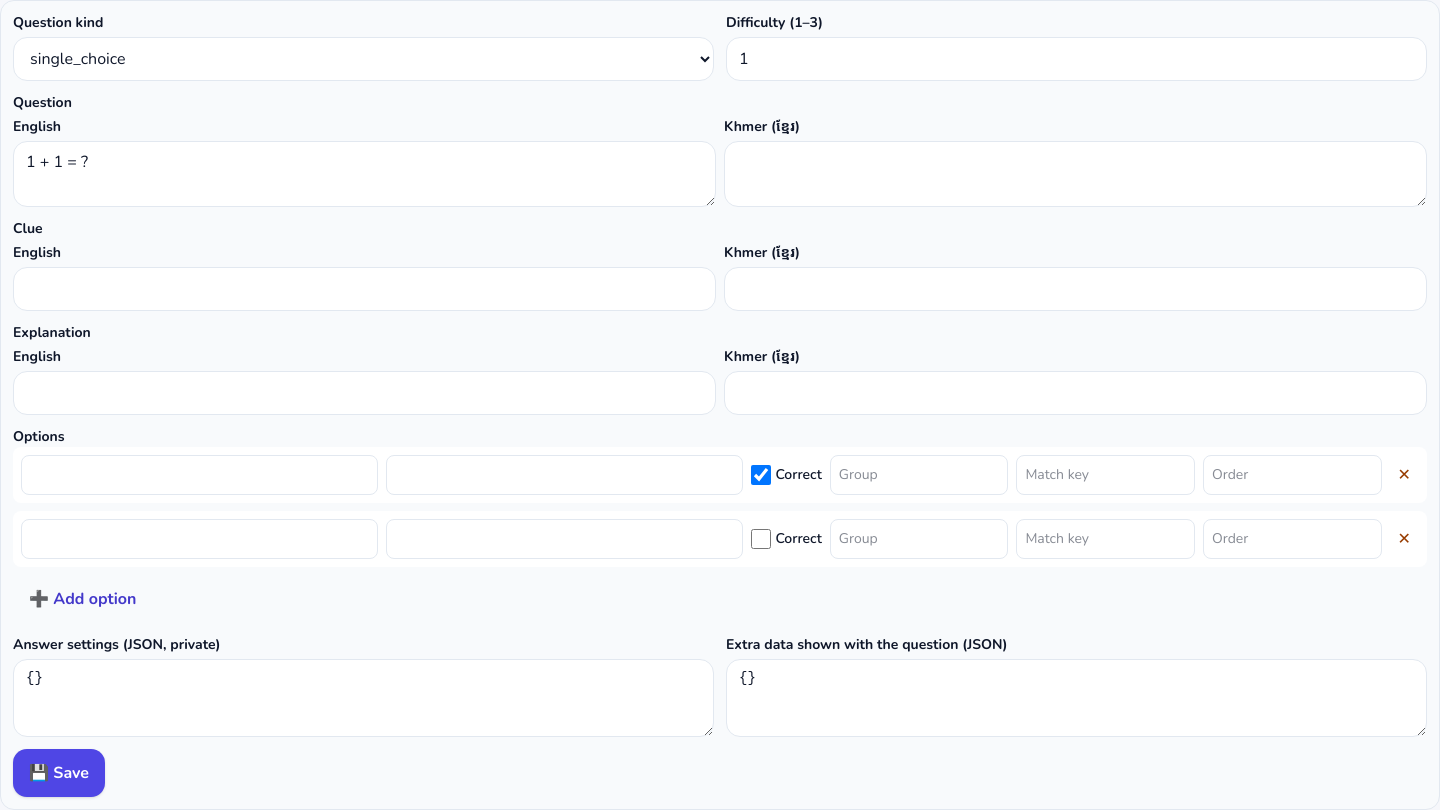
Test case: QuestionEditor › shows why a question cannot be saved
The width and height of the screenshot is (1440, 810).
Click the button "💾 Save" at (59, 773), box x1=13 y1=749 x2=105 y2=797
(page scrolled)
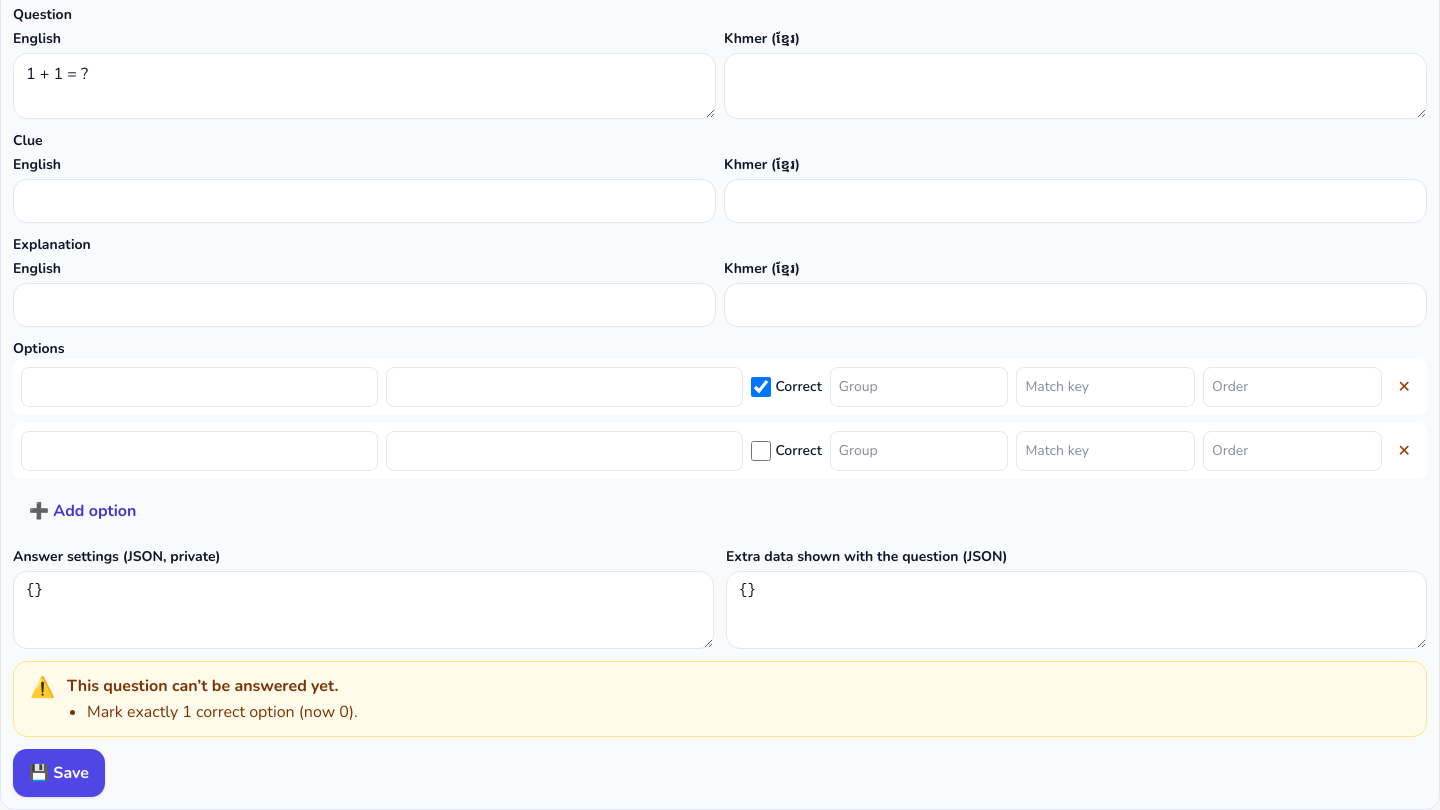
expect the list item "Mark exactly 1 correct option (now 0)." is shown: met, box x1=87 y1=700 x2=358 y2=724
